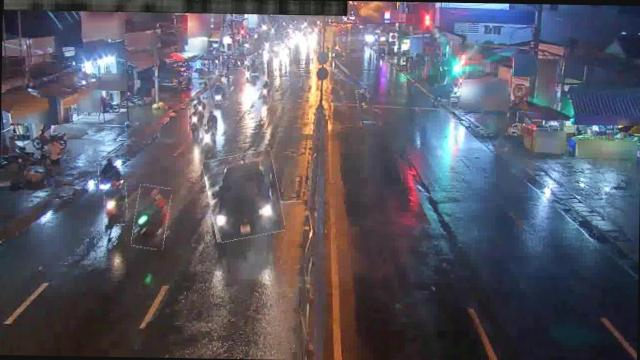Bike: (133, 184, 170, 250), (103, 184, 128, 226), (98, 156, 122, 194), (207, 74, 228, 102), (200, 128, 218, 156), (188, 102, 200, 132), (258, 79, 271, 103), (206, 110, 218, 130), (357, 90, 368, 107), (196, 95, 206, 111)
Car: (204, 151, 283, 240)
